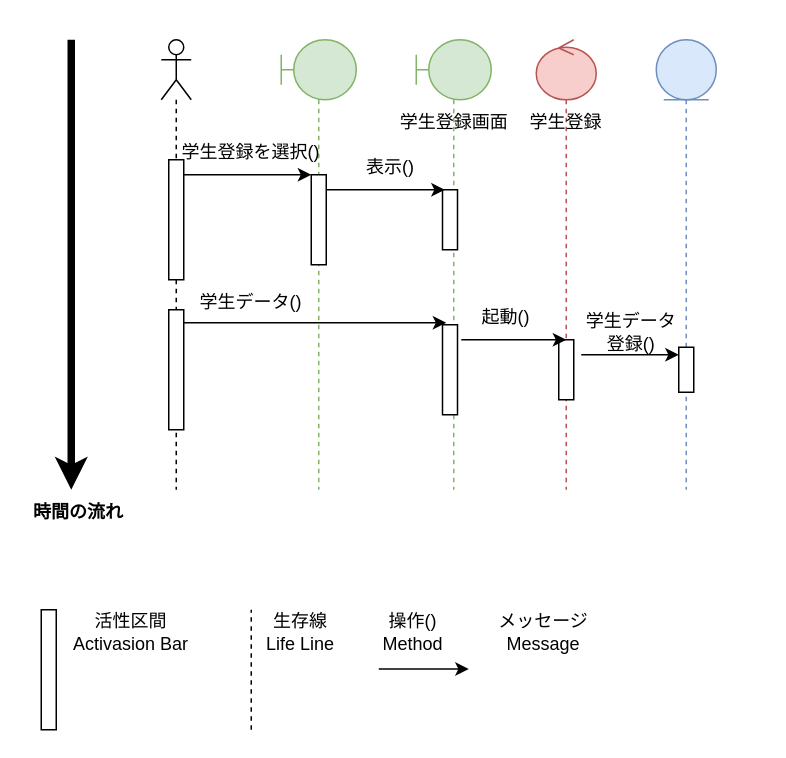
Some shapes in this 786 by 758 pixel diagram are drawn without their labels. Each missing label, with the box of its shape:
メニュー画面: (280, 38, 356, 490)
学生オブジェクト: (655, 38, 716, 490)
